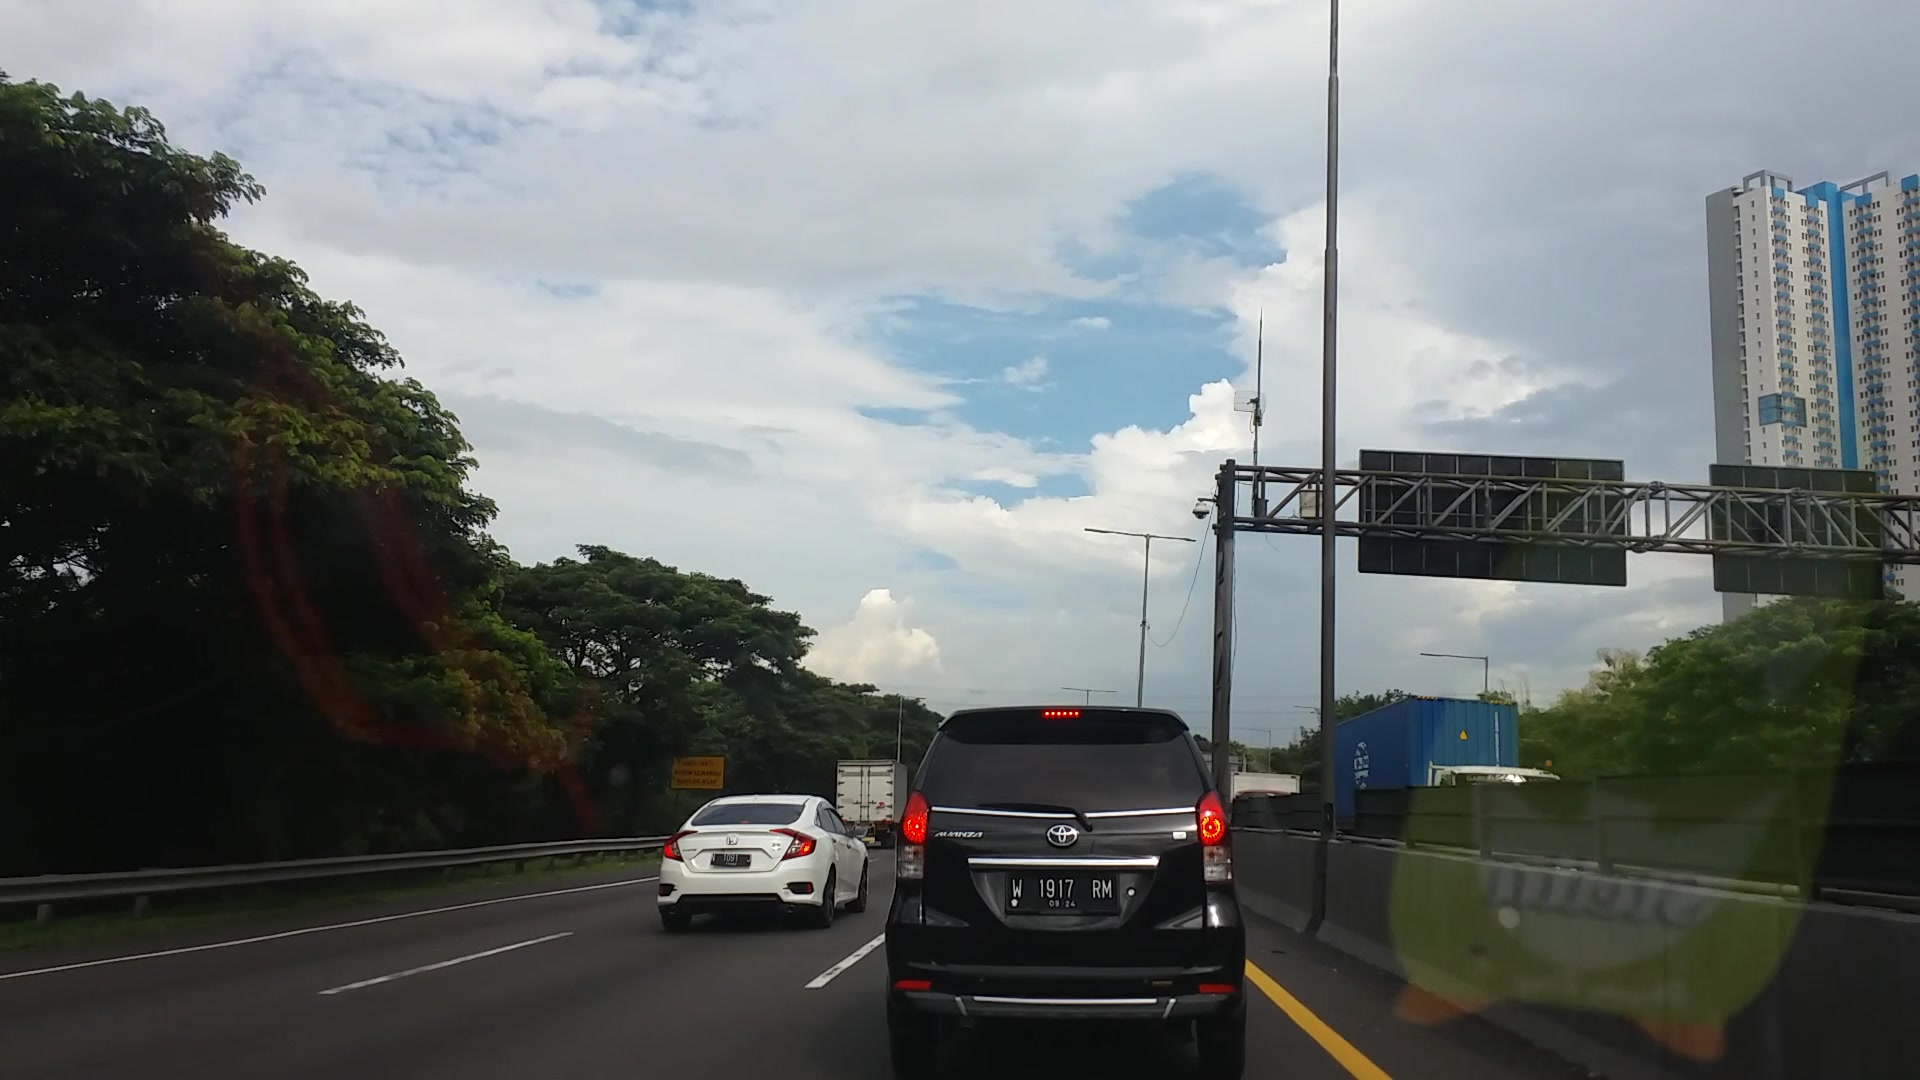plate_positive: (1006, 870, 1120, 915)
